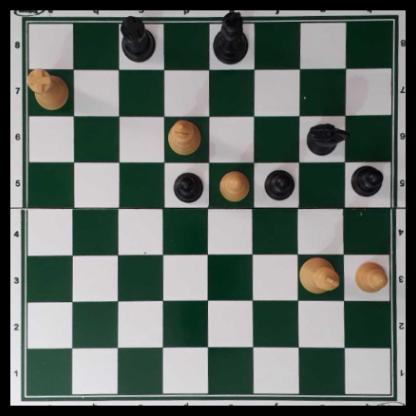black-king: (211, 11, 249, 66)
black-knight: (305, 122, 349, 156)
black-pawn: (350, 162, 383, 197), (172, 171, 204, 203), (263, 168, 294, 200)
black-rook: (118, 17, 156, 63)
white-bishop: (168, 116, 201, 156)
white-king: (298, 256, 339, 294)
white-pawn: (352, 259, 388, 294), (218, 171, 249, 200)
white-rook: (26, 69, 70, 110)
